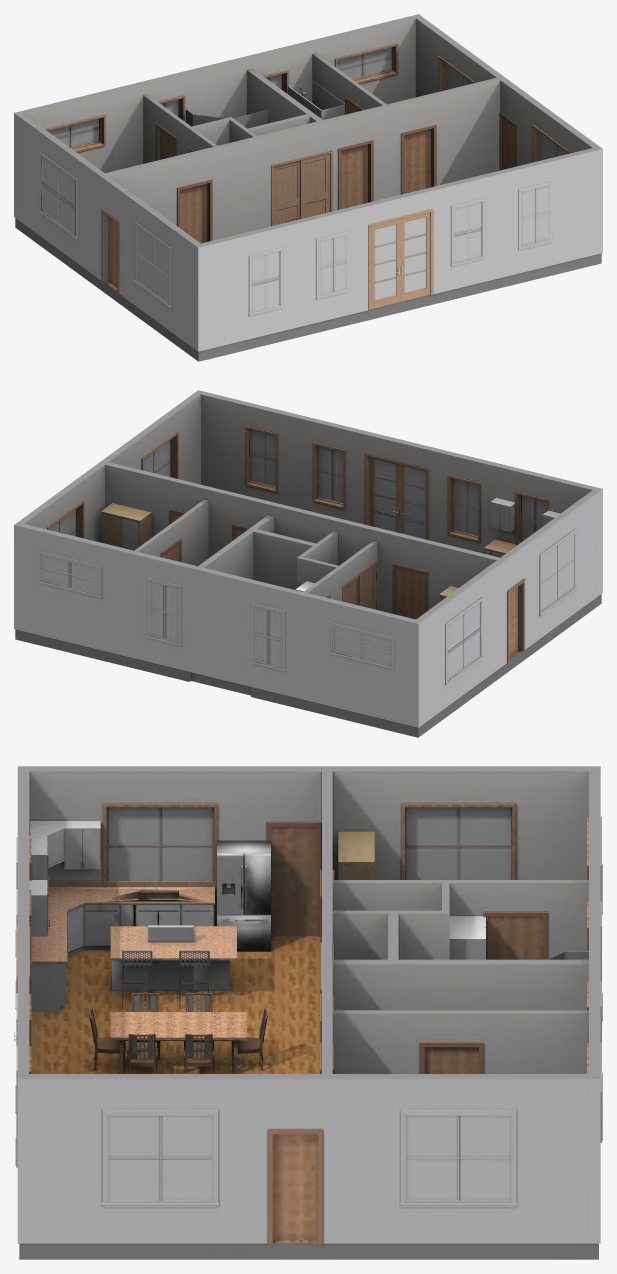
File: floor-plan-transformed.glb
3 renders of one model, top to bottom at view 1: azimuth 30°, elevation 25°; view 2: azimuth 150°, elevation 25°; view 3: azimuth 270°, elevation 25°, orthographic. The views are drawn at different scales.
Visible parts, largest first — view 1: Object004_Object004_mtl_0, Object003_Object003_mtl_0, Object002_Object002_mtl_0, Object001_Object001_mtl_0; view 2: Object004_Object004_mtl_0, Object003_Object003_mtl_0, Object002_Object002_mtl_0, Object001_Object001_mtl_0; view 3: Object004_Object004_mtl_0, Object003_Object003_mtl_0, Object002_Object002_mtl_0, Object001_Object001_mtl_0.
Part boxes in pixels (left/top/right/bottom): Object004_Object004_mtl_0: left=14, top=14, right=602, bottom=351; Object003_Object003_mtl_0: left=15, top=53, right=601, bottom=361; Object002_Object002_mtl_0: left=41, top=46, right=557, bottom=313; Object001_Object001_mtl_0: left=39, top=43, right=569, bottom=316; Object004_Object004_mtl_0: left=14, top=390, right=602, bottom=727; Object003_Object003_mtl_0: left=15, top=436, right=601, bottom=737; Object002_Object002_mtl_0: left=40, top=429, right=574, bottom=695; Object001_Object001_mtl_0: left=37, top=425, right=577, bottom=685; Object004_Object004_mtl_0: left=17, top=766, right=600, bottom=1243; Object003_Object003_mtl_0: left=14, top=807, right=598, bottom=1259; Object002_Object002_mtl_0: left=29, top=807, right=588, bottom=1244; Object001_Object001_mtl_0: left=15, top=803, right=602, bottom=1207.
Size of the model in its own units: 12.48 by 3.36 by 9.88.
Materials: 4 (4 with a texture image).
